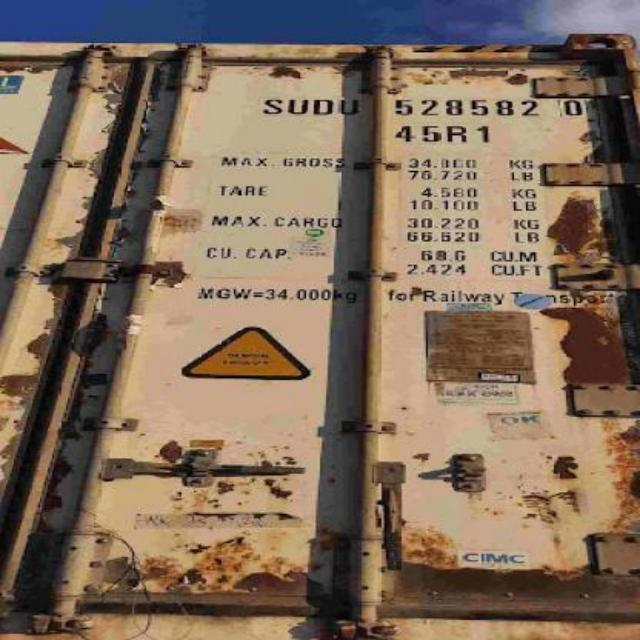0: (560, 96, 590, 120)
2: (520, 96, 544, 120), (418, 94, 438, 120)
5: (464, 92, 490, 118), (390, 95, 418, 118)
8: (436, 92, 464, 118), (492, 96, 516, 120)
D: (308, 92, 334, 121)
S: (260, 92, 284, 120)
U: (282, 92, 310, 118), (336, 94, 362, 120)
